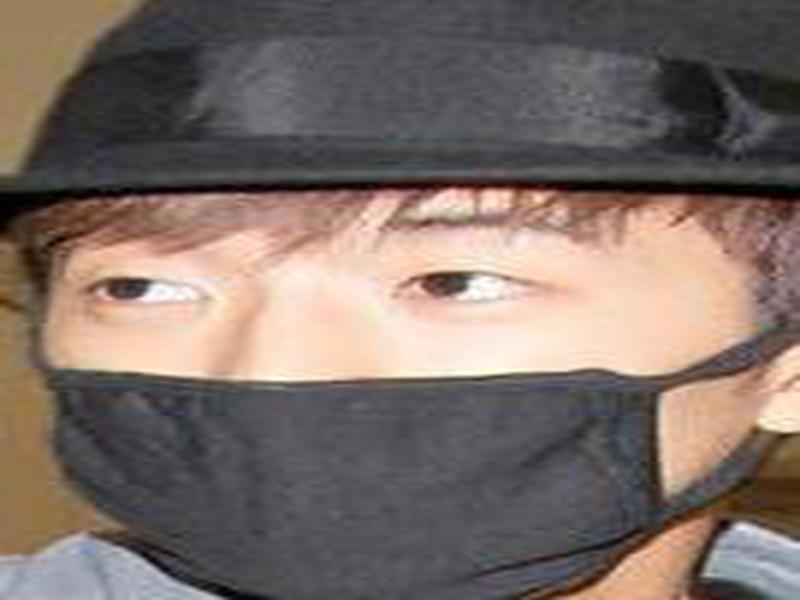with_mask: (1, 190, 795, 600)
